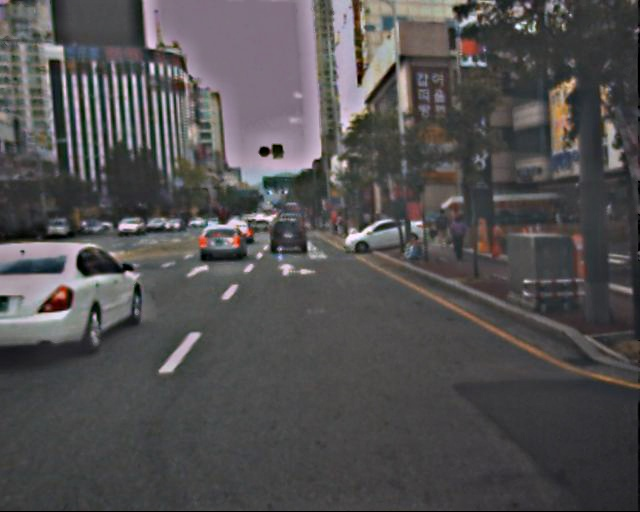person: (448, 214, 469, 265), (434, 207, 452, 251)
